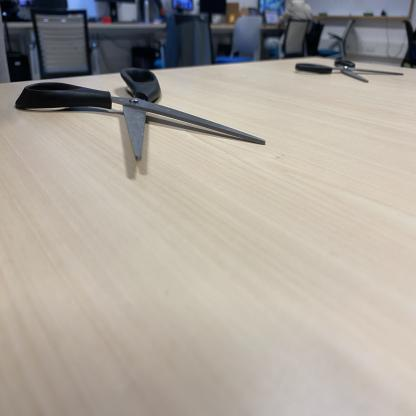scissors: (17, 63, 264, 162), (296, 50, 404, 90)
